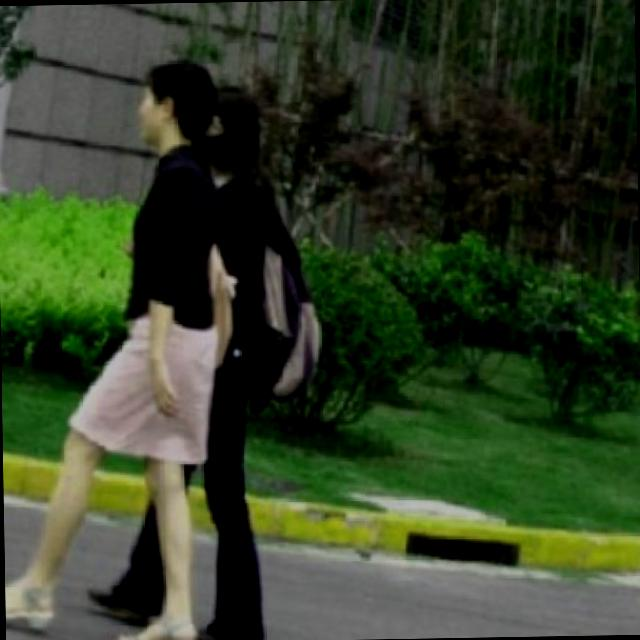Person: (0, 48, 236, 640), (200, 74, 314, 640)
